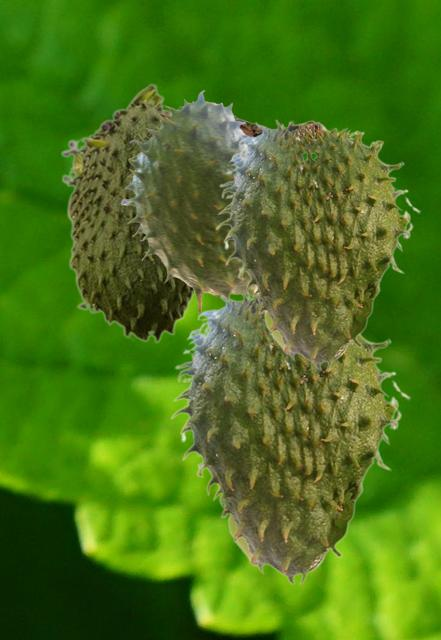guyabano: (170, 295, 410, 584), (215, 119, 420, 370), (61, 82, 194, 342), (121, 90, 254, 314)
